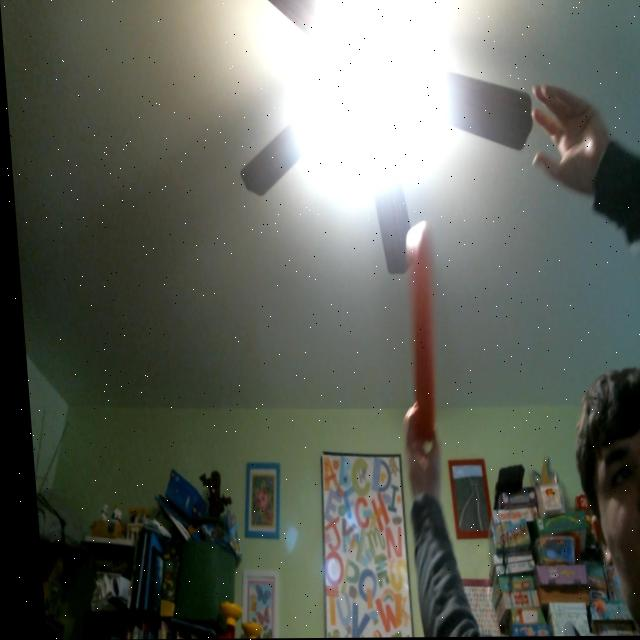note: (398, 225, 438, 443)
